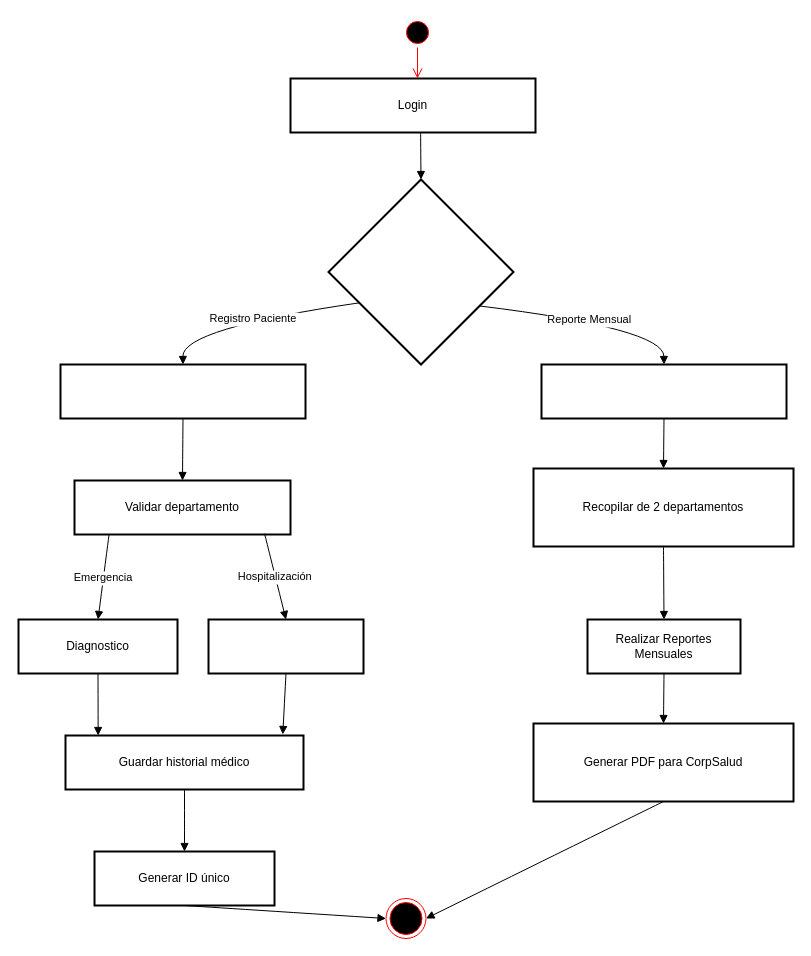
This 811x956 diagram has some shape labels left out. Here are the shapes that lost their labels. From the top down, the centre of each, then its label:
point 420,271: Tipo de Operación
point 182,391: Secretario: Ingresar datos
point 663,391: Sistema: Consolidar datos
point 285,646: Asignar cama
